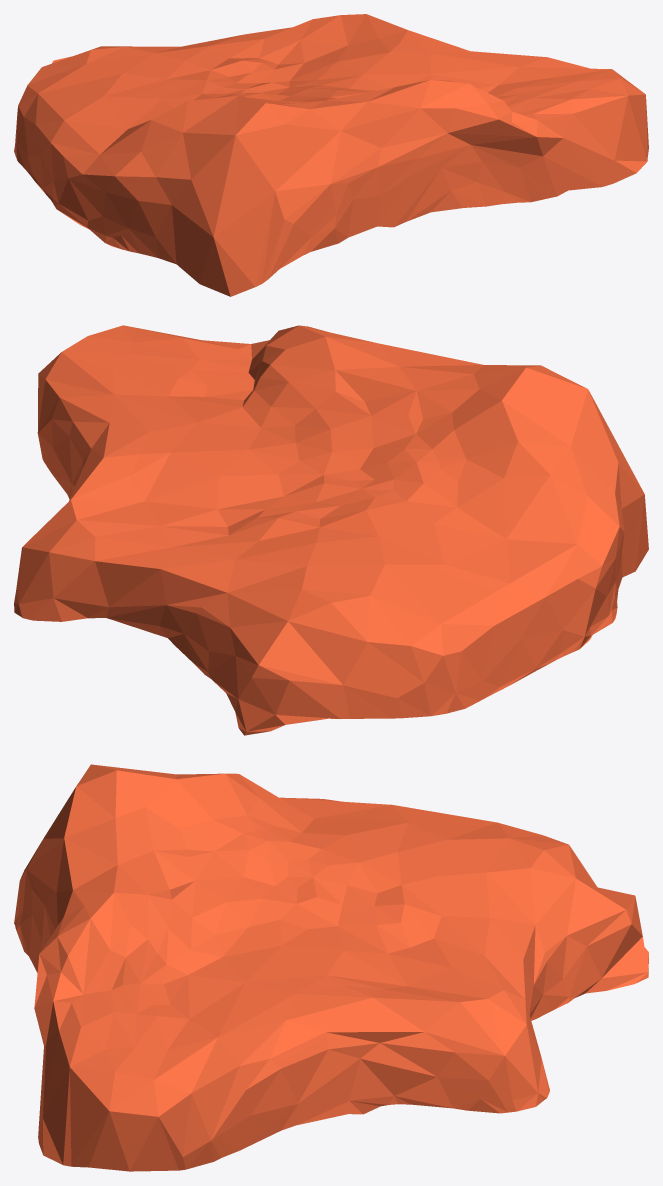
File: ground_027.fbx
The picture shows the model from 3 angles, top to bottom: view 1: azimuth 30°, elevation 25°; view 2: azimuth 150°, elevation 25°; view 3: azimuth 270°, elevation 25°; orthographic projection. The views are drawn at different scales.
Visible parts, largest first — view 1: ground.027; view 2: ground.027; view 3: ground.027.
Part boxes in pixels (x1,y1,x2,y2): ground.027: (14,14,648,296); ground.027: (14,325,648,735); ground.027: (14,764,648,1171).
Bounding box in the file's own units: 2519 × 732 × 2127.
Materials: 1 (1 with a texture image).
